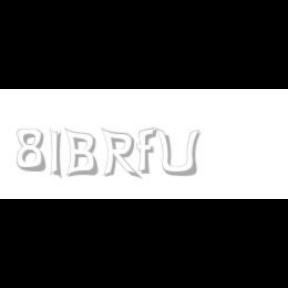8: (16, 128, 46, 172)
B: (64, 128, 98, 178)
R: (101, 128, 139, 180)
U: (154, 128, 200, 178)
f: (136, 128, 160, 174)
l: (50, 128, 66, 180)
